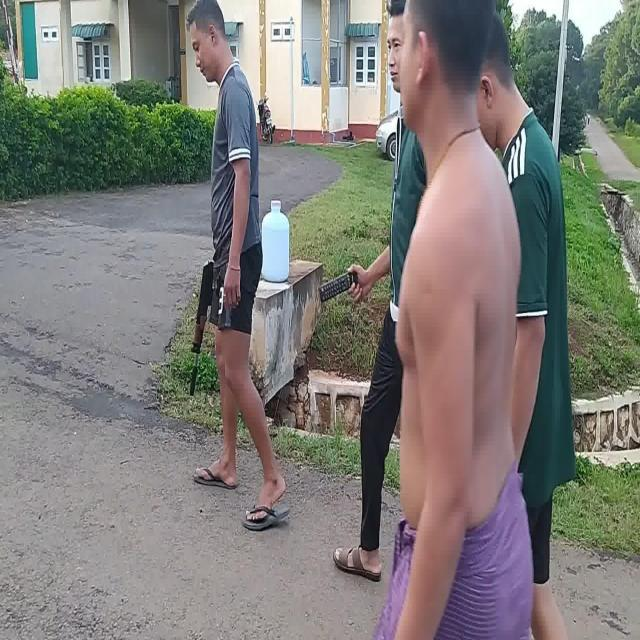gun: (190, 261, 214, 396)
